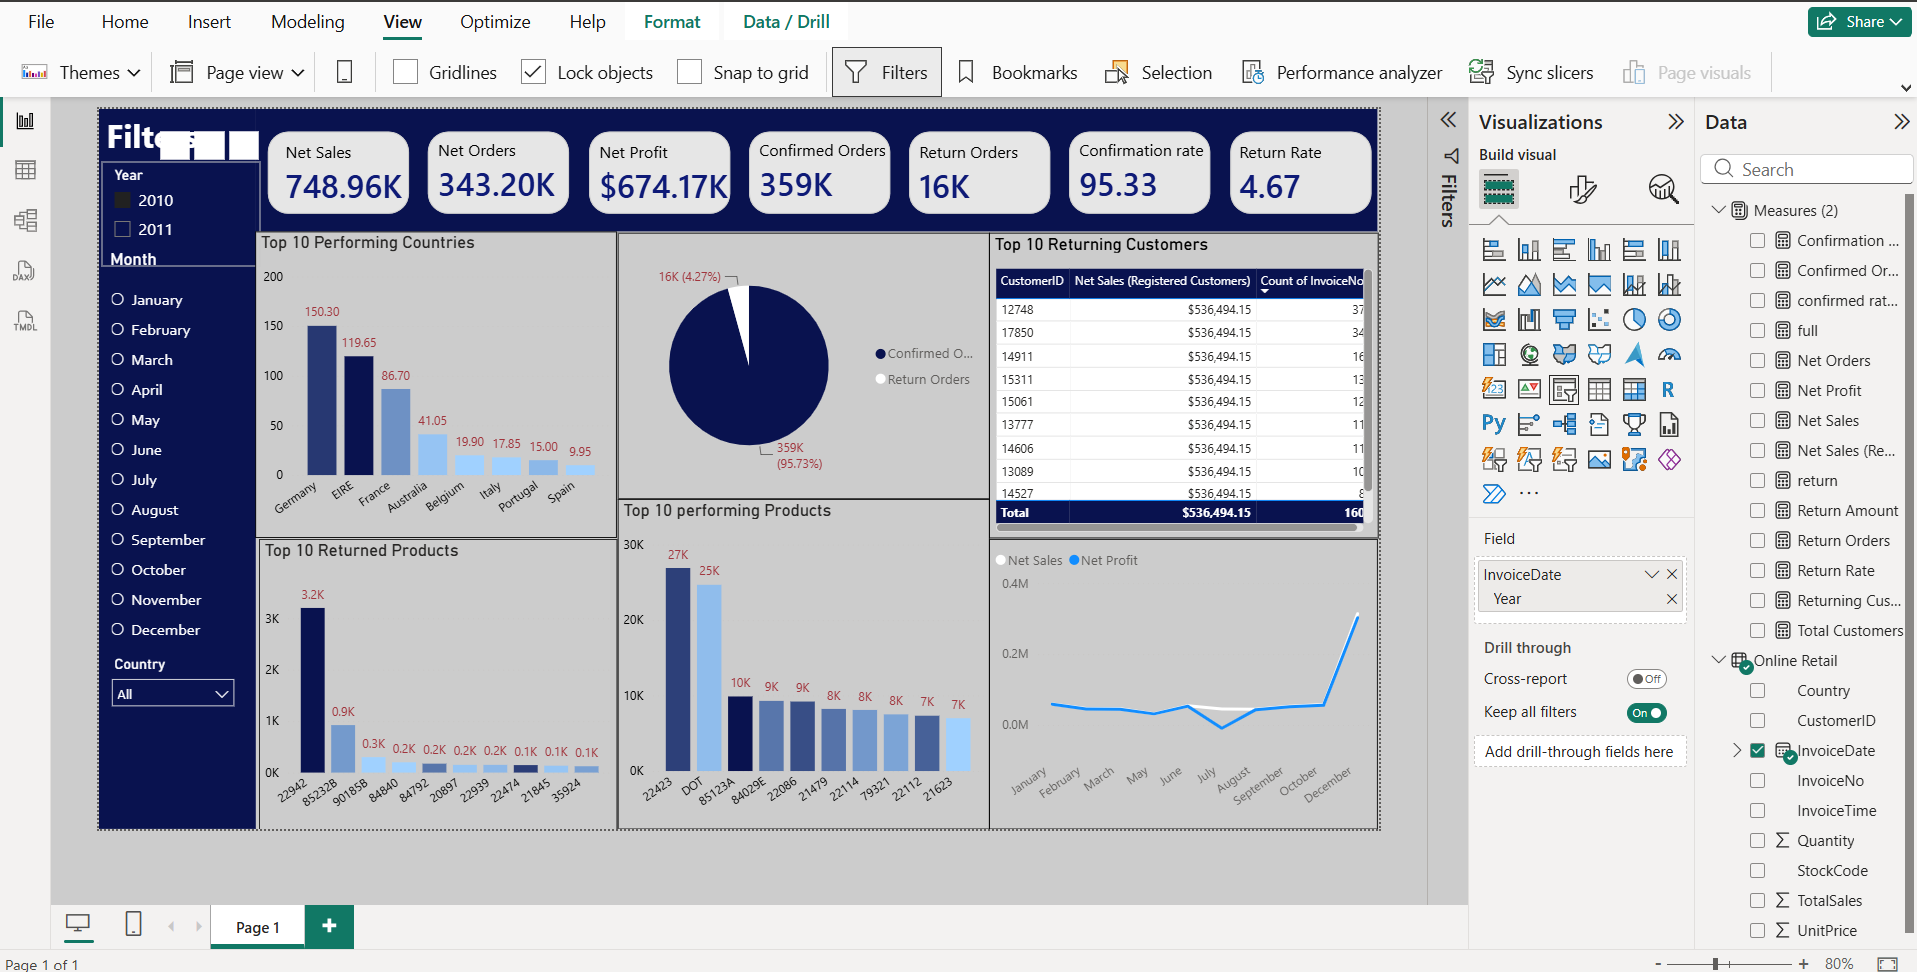

The dashboard page shown, as its layout file describes it:
{"tool":"powerbi","page":{"name":"Page 1","canvas":[1280,720],"ordinal":0},"visuals":[{"type":"shape","box":[0,0,156.8,719.9],"z":0},{"type":"shape","box":[156.8,0,1122.1,122.7],"z":1000},{"type":"barChart","fields":{"Category":["Online Retail.CustomerID"]},"box":[158.6,471.5,541.3,249.5],"z":2000},{"type":"slicer","fields":{"Values":["Online Retail.Country"]},"box":[2.3,540.7,143,179.1],"z":3000},{"type":"slicer","fields":{"Values":["Online Retail.InvoiceDate.Variation.Date Hierarchy.Year"]},"box":[2.8,52.4,157.8,105.7],"z":4000},{"type":"lineChart","title":"Net Sales and Net Profit Trend","fields":{"Category":["Online Retail.InvoiceDate.Variation.Date Hierarchy.Year","Online Retail.InvoiceDate.Variation.Date Hierarchy.Quarter","Online Retail.InvoiceDate.Variation.Date Hierarchy.Month","Online Retail.InvoiceDate.Variation.Date Hierarchy.Day"],"Y":["Measures (2).Net Sales","Measures (2).Net Profit"]},"box":[890.3,429.5,388.6,290.4],"z":5000},{"type":"shape","box":[168.8,23.1,141.3,82.3],"z":6000},{"type":"shape","box":[329.1,23.1,141.3,82.3],"z":7000},{"type":"shape","box":[489.5,23.1,141.3,82.3],"z":8000},{"type":"shape","box":[649.9,23.1,141.3,82.3],"z":9000},{"type":"shape","box":[810.2,23.1,141.3,82.3],"z":10000},{"type":"shape","box":[970.6,23.1,141.3,82.3],"z":11000},{"type":"shape","box":[1131,23.1,141.3,82.3],"z":12000},{"type":"cardVisual","fields":{"Data":["Measures (2).Net Sales"]},"box":[157.8,12,227.8,104.3],"z":13000},{"type":"cardVisual","fields":{"Data":["Measures (2).Net Orders"]},"box":[310.1,9.6,227.8,104.3],"z":14000},{"type":"cardVisual","fields":{"Data":["Measures (2).Confirmed Orders"]},"box":[631.2,9.6,196.2,104.3],"z":15000},{"type":"cardVisual","fields":{"Data":["Measures (2).Return Orders"]},"box":[791.8,12.3,196.2,104.3],"z":16000},{"type":"cardVisual","fields":{"Data":["Measures (2).Return Rate"]},"box":[1111.5,12,160.5,104.3],"z":17000},{"type":"cardVisual","fields":{"Data":["Measures (2).Net Profit"]},"box":[470.7,12.3,227.8,104.3],"z":18000},{"type":"cardVisual","fields":{"Data":["Measures (2).Confirmation rate"]},"box":[950.9,9.6,196.2,104.3],"z":19000},{"type":"listSlicer","fields":{"Values":["Online Retail.InvoiceDate.Variation.Date Hierarchy.Month"]},"box":[5.8,139.5,132.6,401.2],"z":20000},{"type":"clusteredColumnChart","title":"Top 10 Returned Products","fields":{"Category":["Online Retail.StockCode"],"Y":["Measures (2).Return Rate"]},"box":[159.5,429.5,358.6,291.8],"z":21000},{"type":"columnChart","title":"Top 10 performing Products","fields":{"Category":["Online Retail.StockCode"],"Y":["Measures (2).Net Sales"]},"box":[518.6,389.5,372.1,330.2],"z":22000},{"type":"tableEx","title":"Top 10 Returning Customers","fields":{"Values":["Online Retail.CustomerID","Measures (2).Net Sales (Registered Customers)","Online Retail.InvoiceNo"]},"box":[890.3,124.1,389.9,305.4],"z":23000},{"type":"textbox","box":[2.8,0,140.2,65.1],"z":24000},{"type":"pieChart","fields":{"Y":["Measures (2).Confirmed Orders","Measures (2).Return Orders"]},"box":[518.6,123.3,372.1,266.3],"z":25000},{"type":"clusteredColumnChart","title":"Top 10 Performing Countries","fields":{"Category":["Online Retail.Country"],"Y":["Measures (2).Net Sales"]},"box":[156.8,122.7,361.3,306.8],"z":26000}]}

Visuals, with their boxes on the page's 1280x720 design canvas (x1, y1, x2, y2). These are canvas units, not pixel positions in the 1917x972 screenshot, which may show the page scaled, cropped or inside an application window:
shape: 0:0:157:720
shape: 157:0:1279:123
barChart - Online Retail.CustomerID: 159:472:700:721
slicer - Online Retail.Country: 2:541:145:720
slicer - Online Retail.InvoiceDate.Variation.Date Hierarchy.Year: 3:52:161:158
"Net Sales and Net Profit Trend" lineChart: 890:430:1279:720
shape: 169:23:310:105
shape: 329:23:470:105
shape: 490:23:631:105
shape: 650:23:791:105
shape: 810:23:952:105
shape: 971:23:1112:105
shape: 1131:23:1272:105
cardVisual - Measures (2).Net Sales: 158:12:386:116
cardVisual - Measures (2).Net Orders: 310:10:538:114
cardVisual - Measures (2).Confirmed Orders: 631:10:827:114
cardVisual - Measures (2).Return Orders: 792:12:988:117
cardVisual - Measures (2).Return Rate: 1112:12:1272:116
cardVisual - Measures (2).Net Profit: 471:12:698:117
cardVisual - Measures (2).Confirmation rate: 951:10:1147:114
listSlicer - Online Retail.InvoiceDate.Variation.Date Hierarchy.Month: 6:140:138:541
"Top 10 Returned Products" clusteredColumnChart: 160:430:518:721
"Top 10 performing Products" columnChart: 519:390:891:720
"Top 10 Returning Customers" tableEx: 890:124:1280:430
textbox: 3:0:143:65
pieChart - Measures (2).Confirmed Orders x Measures (2).Return Orders: 519:123:891:390
"Top 10 Performing Countries" clusteredColumnChart: 157:123:518:430
